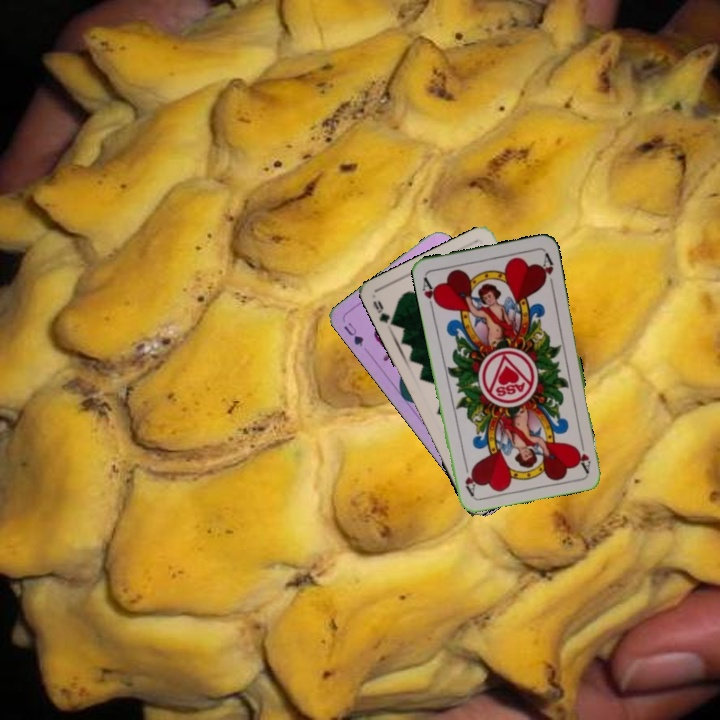G9: (369, 297, 399, 329)
GU: (339, 318, 366, 349)
HA: (418, 273, 442, 312), (573, 434, 593, 474)
